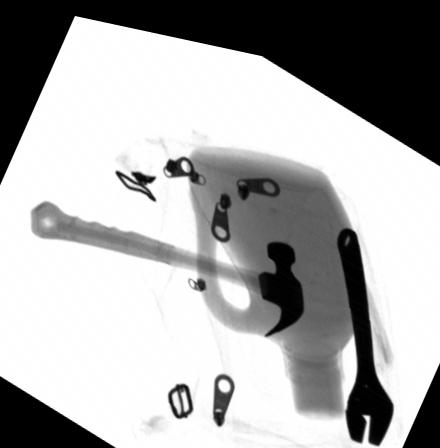Hammer: (28, 196, 303, 322)
Wrench: (336, 212, 394, 430)
